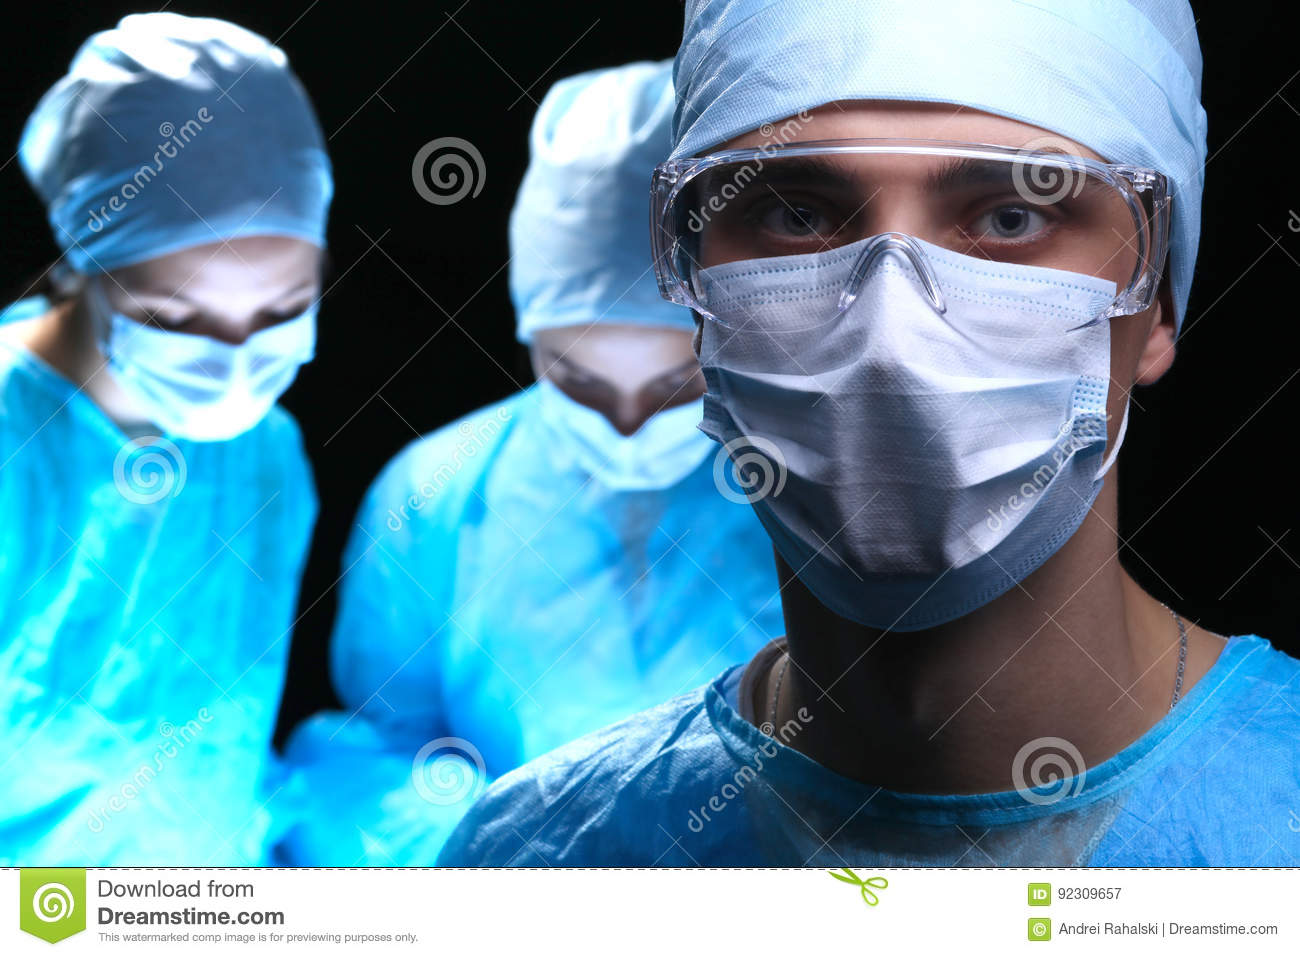mask: (685, 260, 1098, 599)
